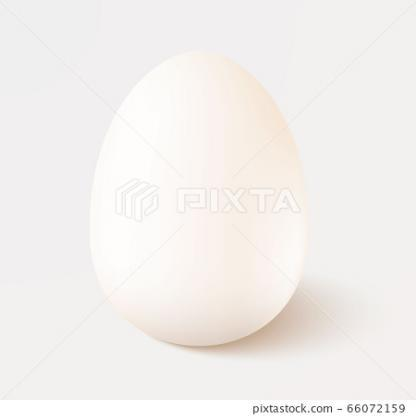egg: (87, 50, 313, 350)
